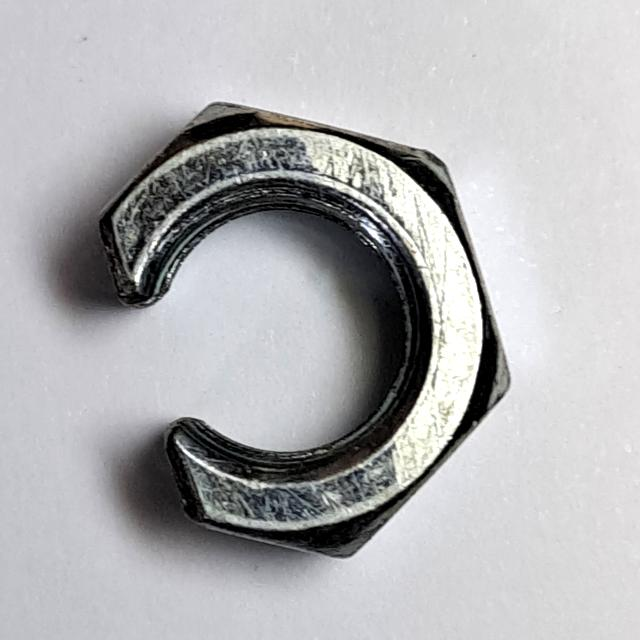Fracture: (92, 85, 525, 570)
